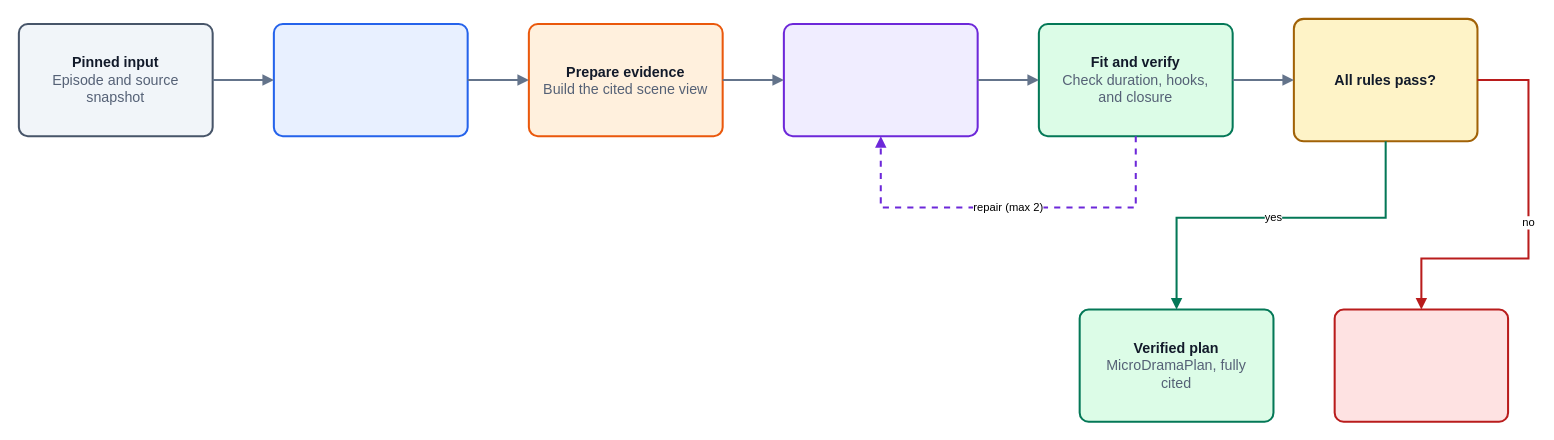
This 1554x440 diagram has some shape labels left out. The shapes that lost their labels are listed below. From the top down, each one's box as (x1, y1, x2, y2) in pixels, then its label:
(272, 22, 468, 137): Scope request Compile policy and budgets
(782, 22, 978, 137): Build story map Prove beats and solve chapters
(1333, 308, 1509, 422): Typed stop Failure or abstention
